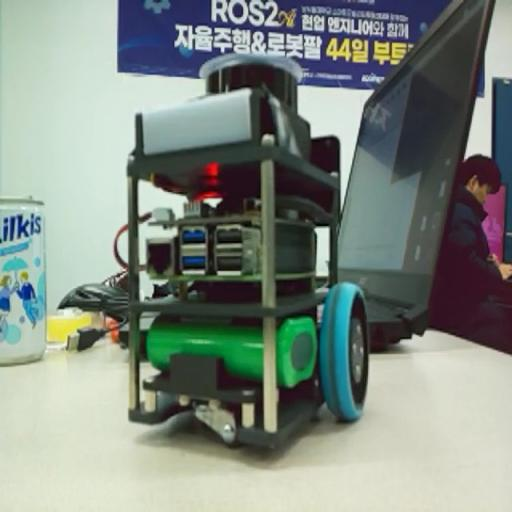pinky_63: (109, 46, 381, 446)
